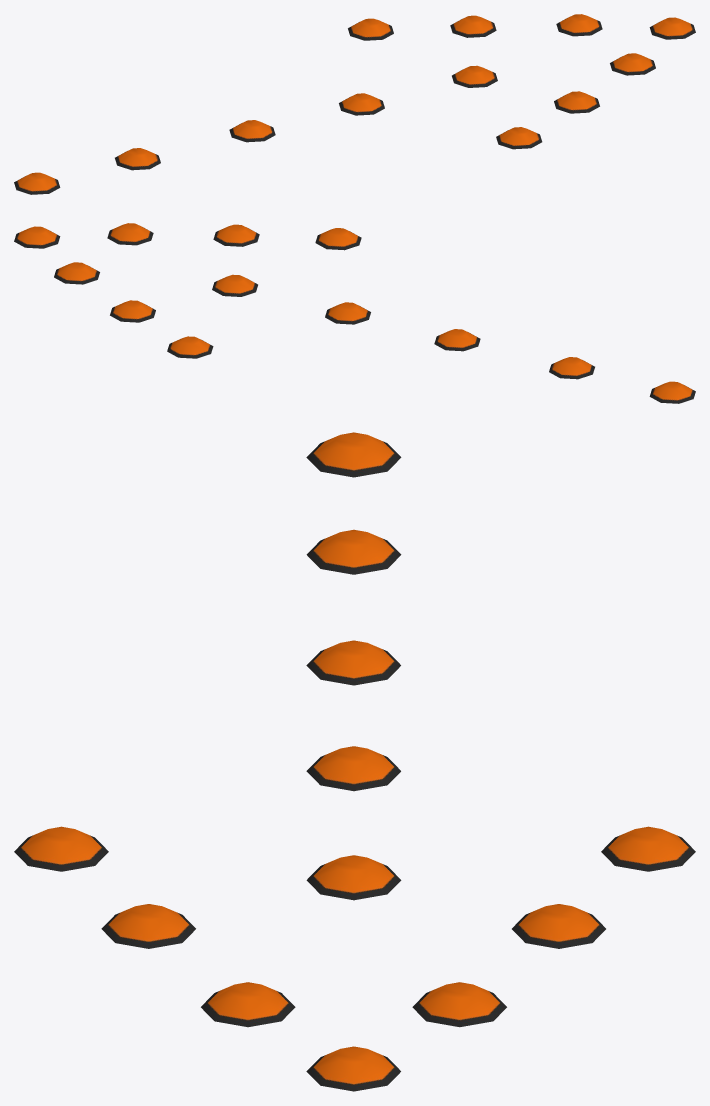
The model's file is defaultconea.glb.
The picture shows the model from 3 angles, top to bottom: view 1: azimuth 30°, elevation 25°; view 2: azimuth 150°, elevation 25°; view 3: azimuth 270°, elevation 25°; orthographic projection. The views are drawn at different scales.
Parts seen in each view (by area): view 1: DefaultConeA; view 2: DefaultConeA; view 3: DefaultConeA.
Part boxes in pixels (<box>): DefaultConeA: <box>14,14,695,194</box>; DefaultConeA: <box>14,223,695,403</box>; DefaultConeA: <box>14,432,695,1091</box>.
Size of the model in its own units: 4.89 by 0.0591 by 2.15.
1 material, 1 textured.
